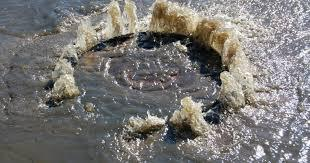drainage overflow-repair-: (40, 0, 278, 152)
